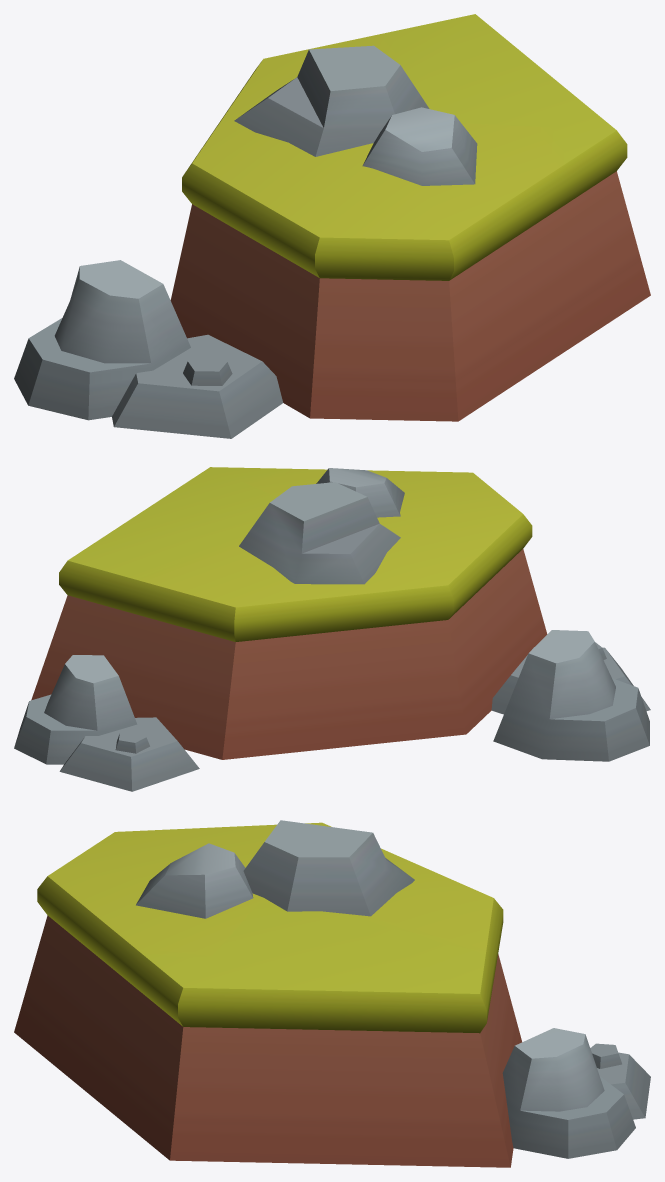
Rendered from hills_c.glb.
The picture shows the model from 3 angles, top to bottom: view 1: azimuth 30°, elevation 25°; view 2: azimuth 150°, elevation 25°; view 3: azimuth 270°, elevation 25°; orthographic projection. The views are drawn at different scales.
Parts seen in each view (by area): view 1: hills_C; view 2: hills_C; view 3: hills_C.
Boxes of the visible parts, x1,y1,x2,y2 form: hills_C: [14, 14, 650, 438]; hills_C: [14, 467, 650, 791]; hills_C: [14, 820, 650, 1167].
Size of the model in its own units: 1.53 by 0.5547 by 1.47.
Materials: 1 (1 with a texture image).
